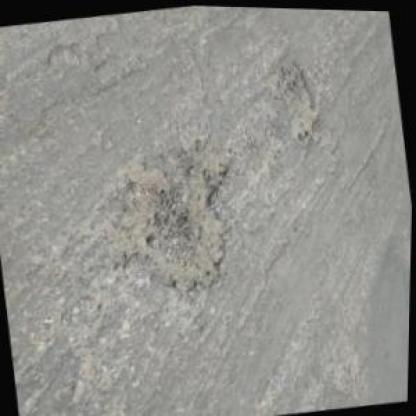pothole: (100, 136, 251, 301), (273, 53, 327, 144)
